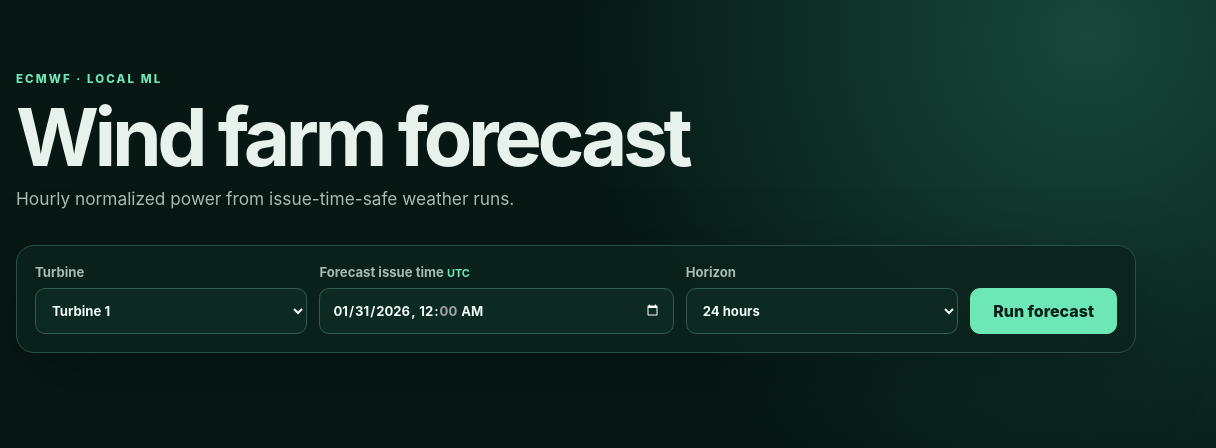
forecast UI › shows a useful API error
What coordinates should you click on to do the following:
click the button "Run forecast"
I would click on:
 (1044, 311)
Its box is [970, 288, 1117, 334].
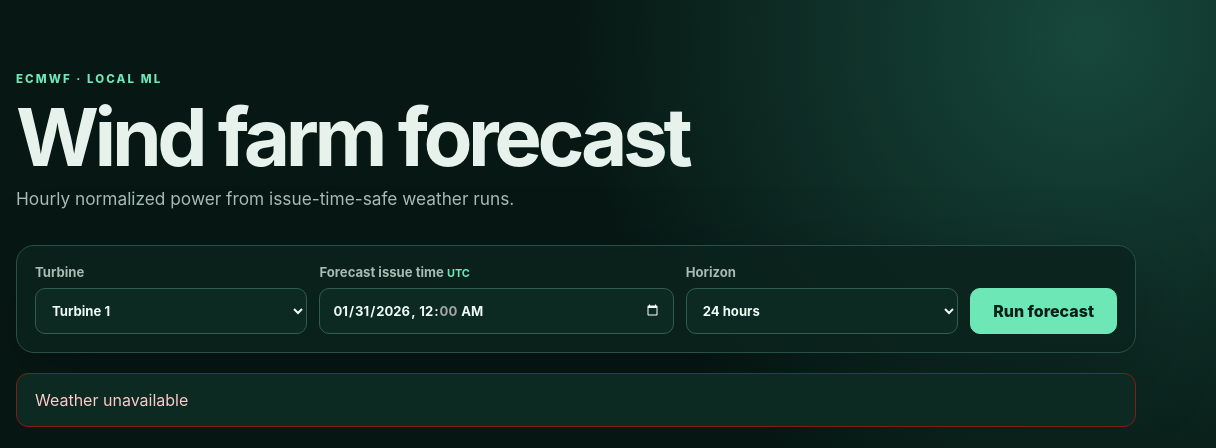
Check: the message reads "Weather unavailable", box [35, 390, 188, 410]
